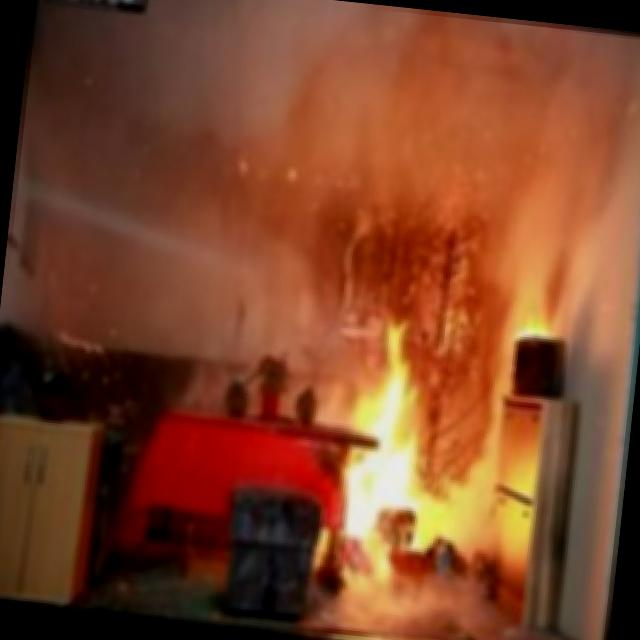fire: (302, 294, 477, 570)
smoke: (113, 0, 404, 277)
